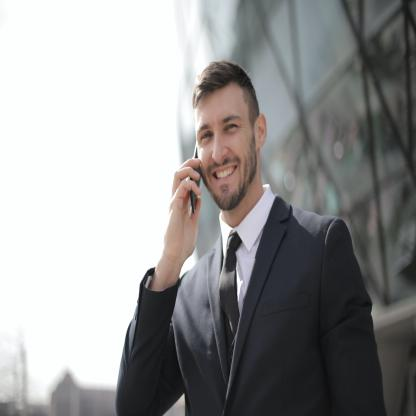Eye: (223, 123, 240, 134), (201, 132, 213, 141)
Mouth: (210, 164, 238, 183)
Nose: (211, 130, 229, 163)
